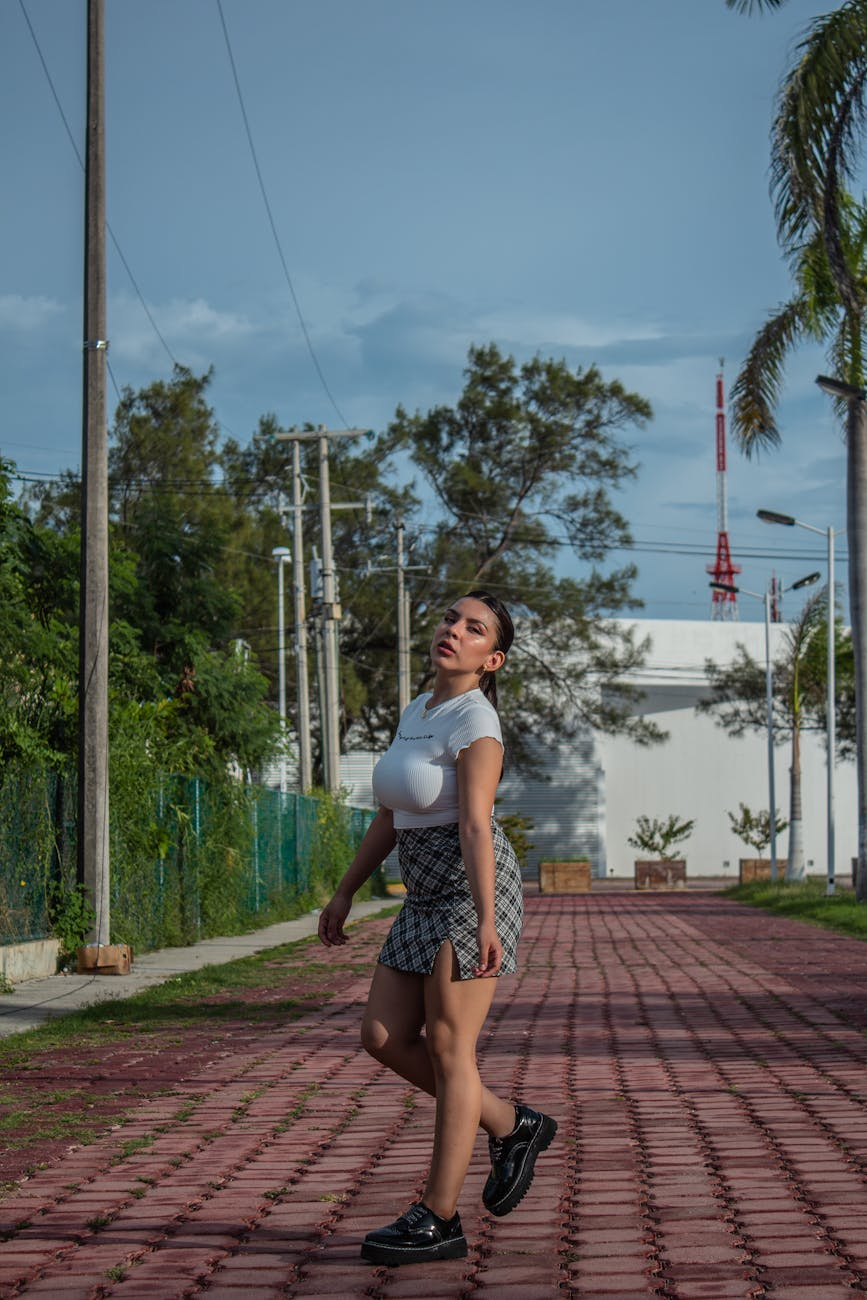short_medium_skirt: (368, 819, 524, 979)
